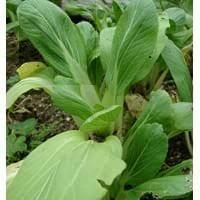Healthy-Pechay: (22, 0, 192, 89), (55, 130, 125, 176), (116, 120, 165, 181), (70, 88, 129, 133), (110, 172, 200, 200), (136, 94, 194, 134), (48, 170, 109, 200), (3, 80, 125, 94), (8, 154, 40, 200), (35, 143, 59, 200), (53, 92, 81, 112)
